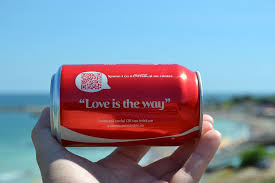coke: (49, 63, 205, 147)
